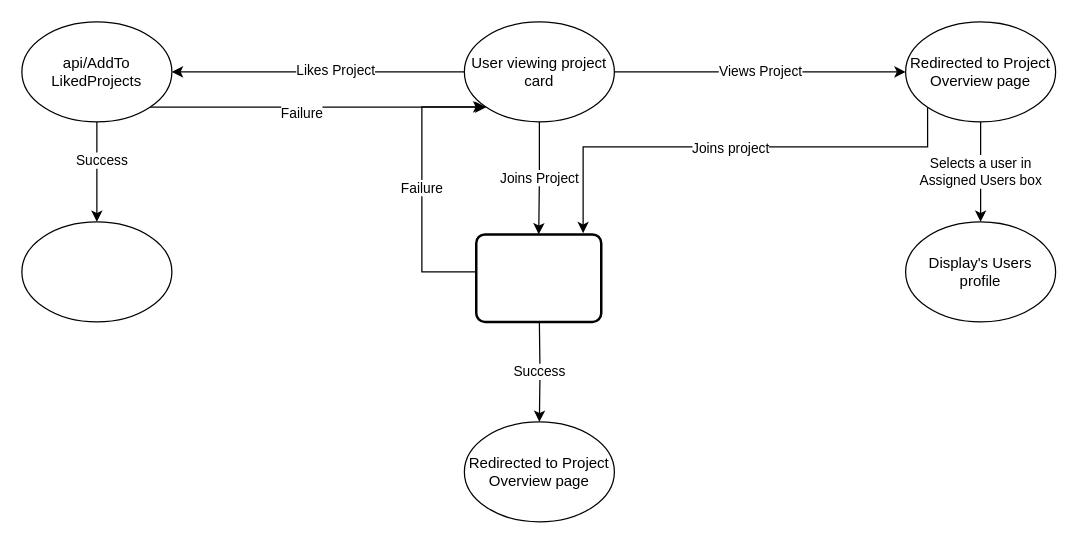
Image size: 1078x544. Some labels were removed from this diagram. The centre of each missing label's shape, as x and y in pixels:
"api/AssignToUser" goes at (x=538, y=277).
"Project can now be viewed in liked projects page" goes at (x=96, y=271).
